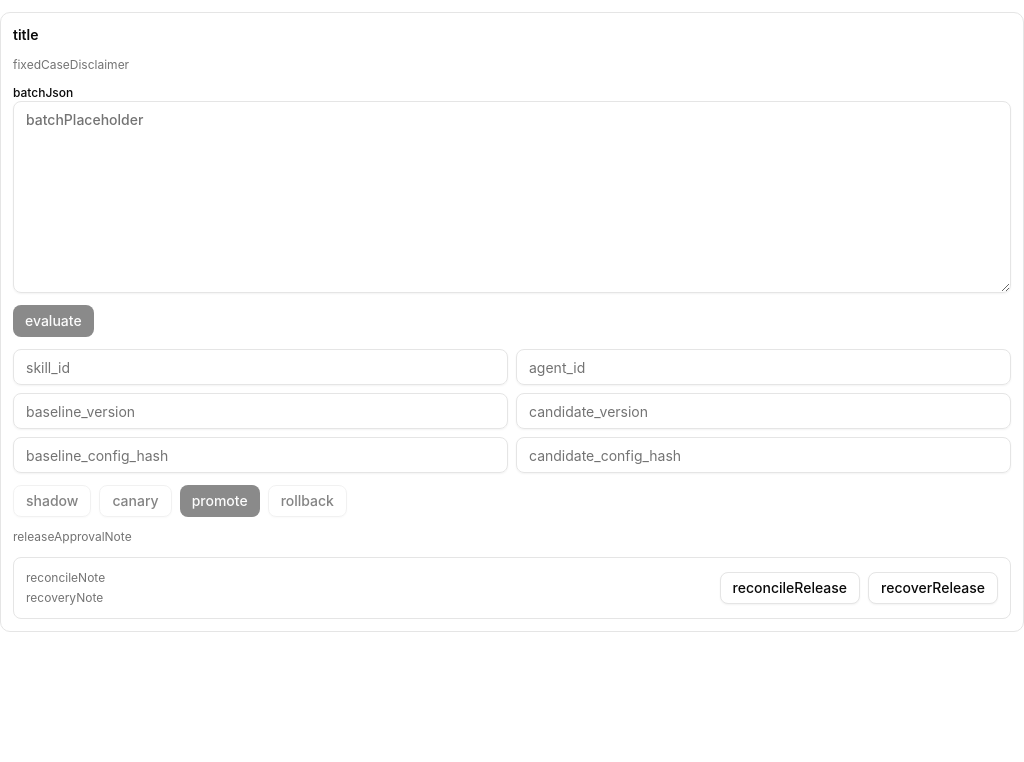
Test: EvolutionEvaluationReleasePanel › runs recovery only after an explicit click and reports the recovery response
The width and height of the screenshot is (1024, 762).
Click the button "recoverRelease" at [933, 588], box [868, 572, 998, 604]
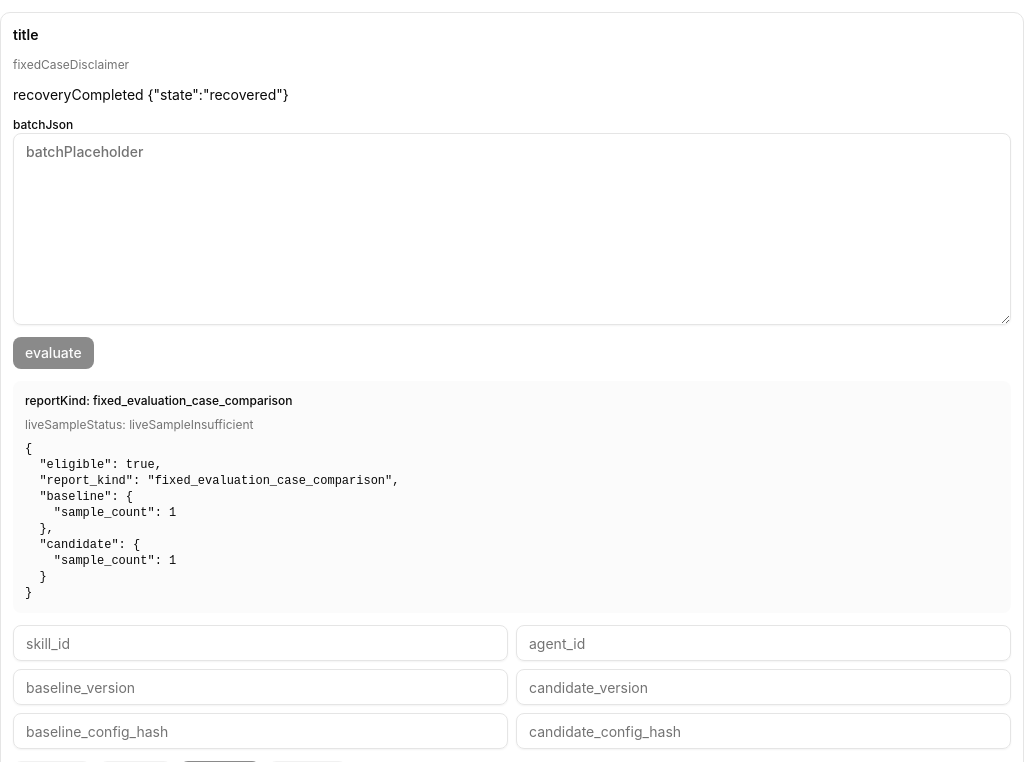
Expected: the message shows "recoveryCompleted", [13, 86, 289, 103]
